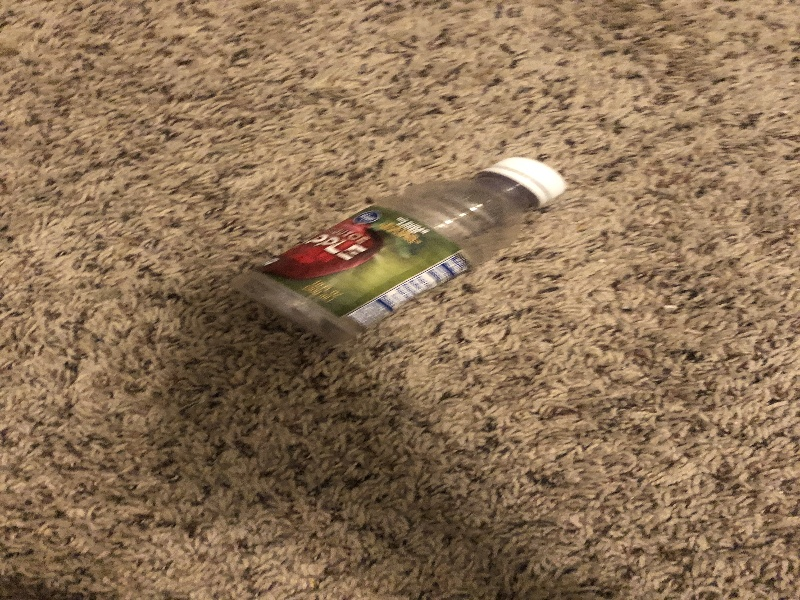plastic: (228, 156, 573, 338)
